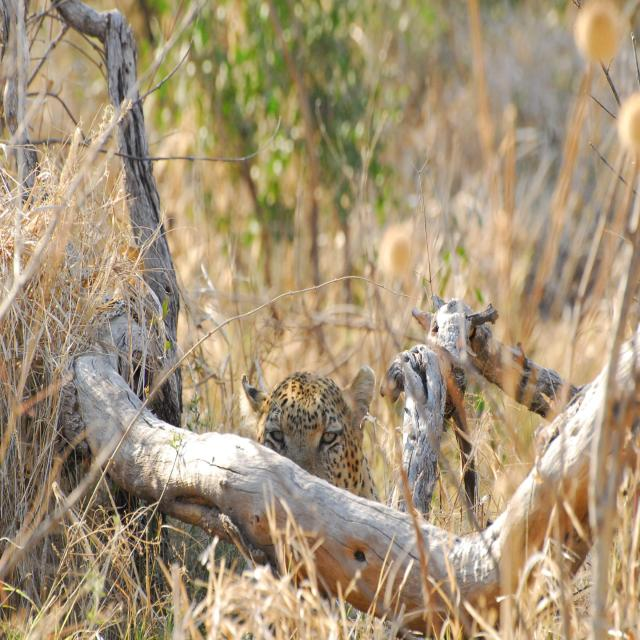Leopard: (240, 372, 387, 530)
